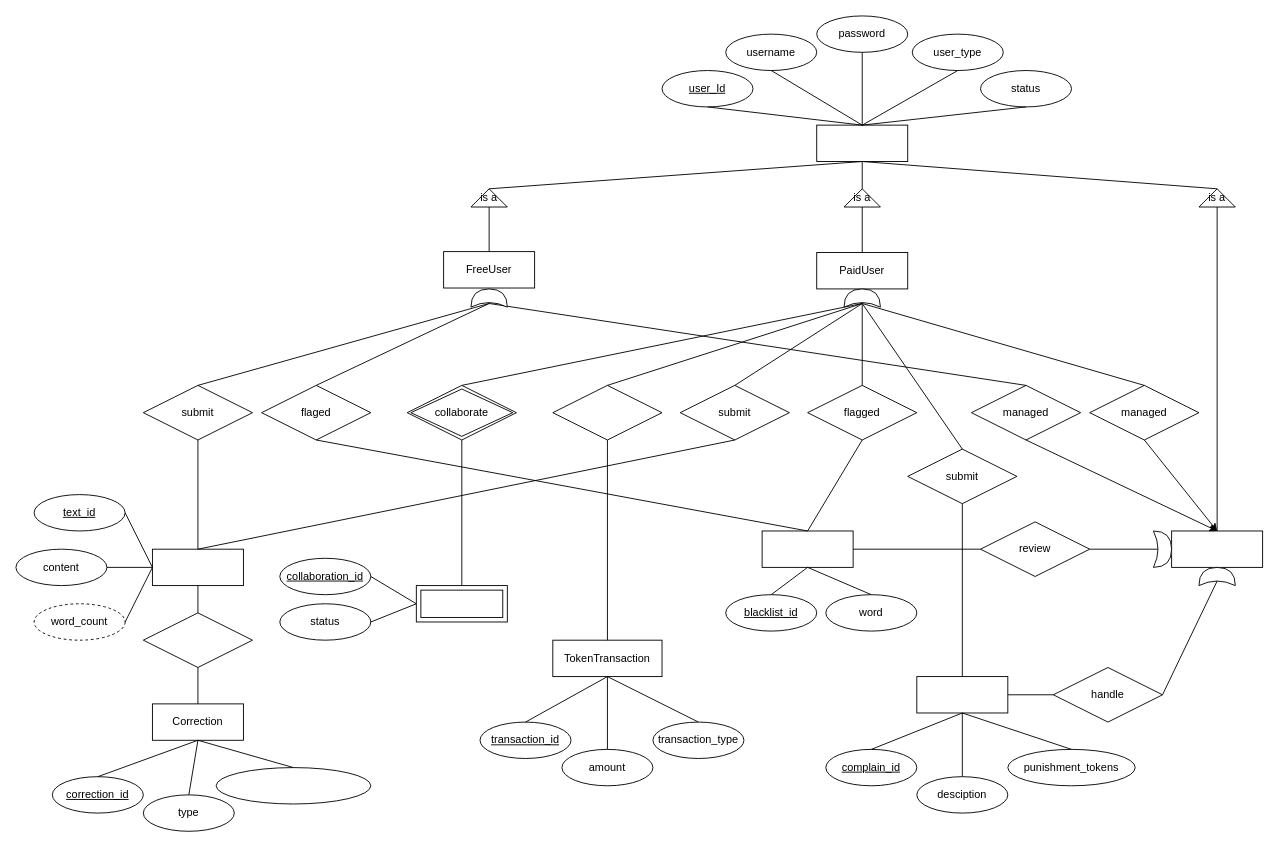
Image size: 1279x847. Some labels were removed from this diagram. Here are the shapes that lost their labels. From the top down, the box of each, then its label:
(816, 124, 908, 162): User
(552, 384, 662, 440): transaction
(152, 548, 243, 586): Text
(761, 530, 853, 567): Blacklist
(1171, 530, 1263, 567): SuperUser
(415, 585, 507, 622): Collaboration
(142, 612, 253, 667): correct
(916, 676, 1008, 713): Complaint
(215, 767, 371, 804): self_corrected_word_count
